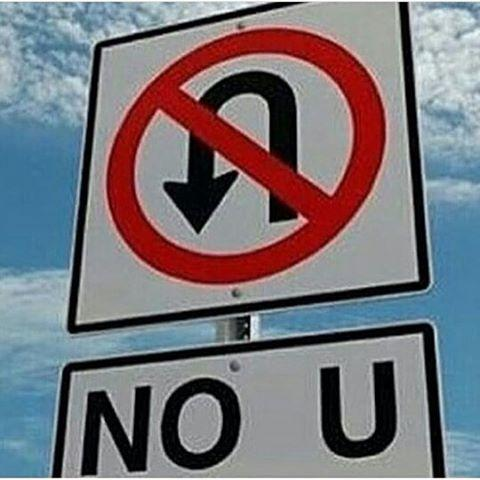no_u_turn: (104, 26, 386, 283)
